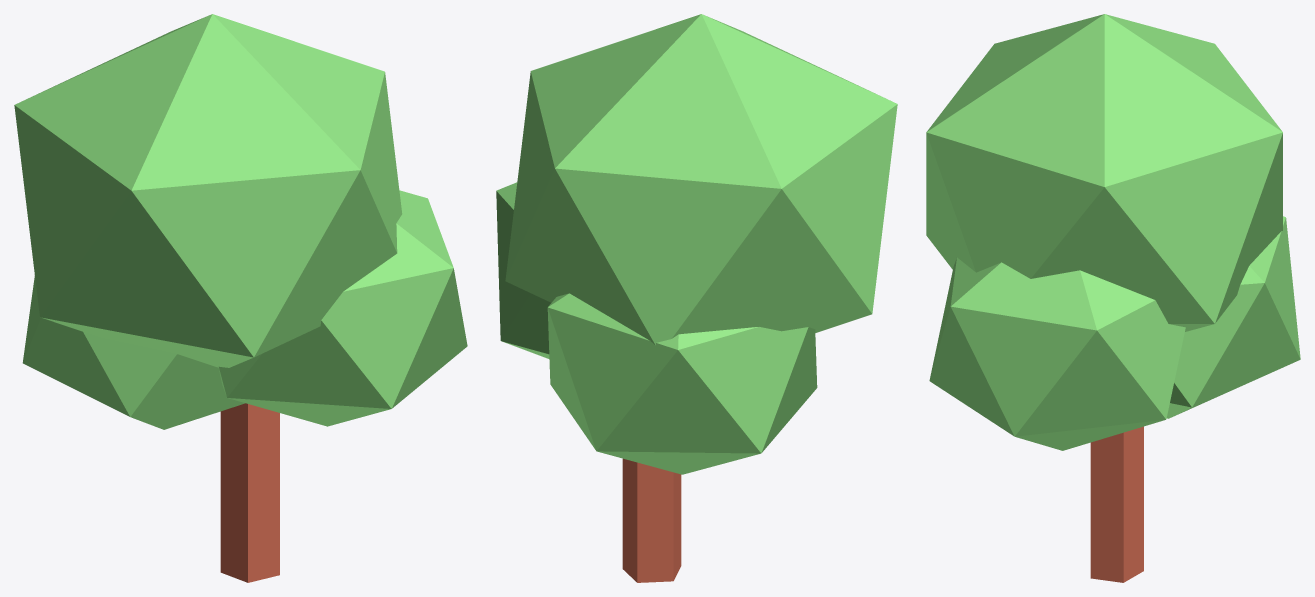
Rendered from TreeModel.dae.
3 views of the same model, side by side, from view 1: azimuth 30°, elevation 25°; view 2: azimuth 150°, elevation 25°; view 3: azimuth 270°, elevation 25° (orthographic). The views are drawn at different scales.
Visible parts, largest first — view 1: leaf, leaf.001, leaf.002, stem; view 2: leaf, leaf.002, stem, leaf.001; view 3: leaf, leaf.001, leaf.002, stem.
Boxes of the visible parts, bbox=[...] form: leaf: bbox=[14, 14, 402, 367]; leaf.001: bbox=[218, 190, 467, 426]; leaf.002: bbox=[22, 275, 244, 429]; stem: bbox=[220, 403, 279, 582]; leaf: bbox=[505, 14, 897, 345]; leaf.002: bbox=[547, 293, 817, 474]; stem: bbox=[622, 458, 681, 582]; leaf.001: bbox=[496, 182, 550, 358]; leaf: bbox=[926, 14, 1282, 331]; leaf.001: bbox=[929, 257, 1185, 450]; leaf.002: bbox=[1167, 216, 1300, 418]; stem: bbox=[1090, 426, 1143, 582].
Bounding box in the file's own units: 3.87 × 3.47 × 5.49.
